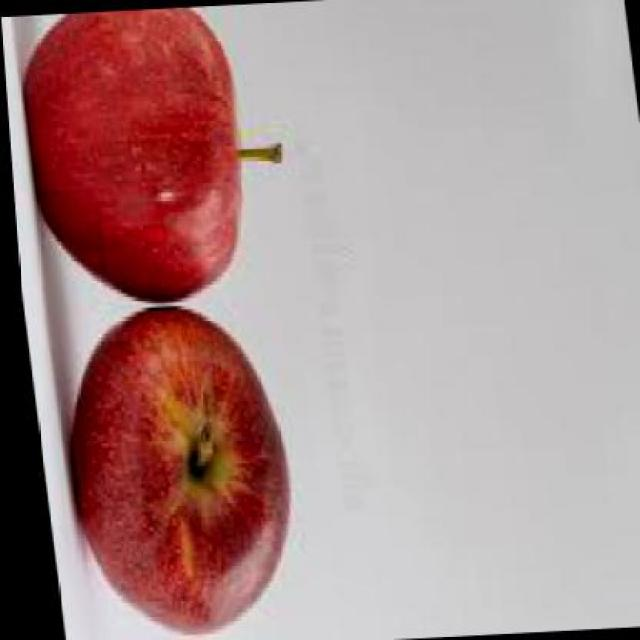Fresh Apple: (79, 312, 292, 626), (21, 3, 237, 305)
